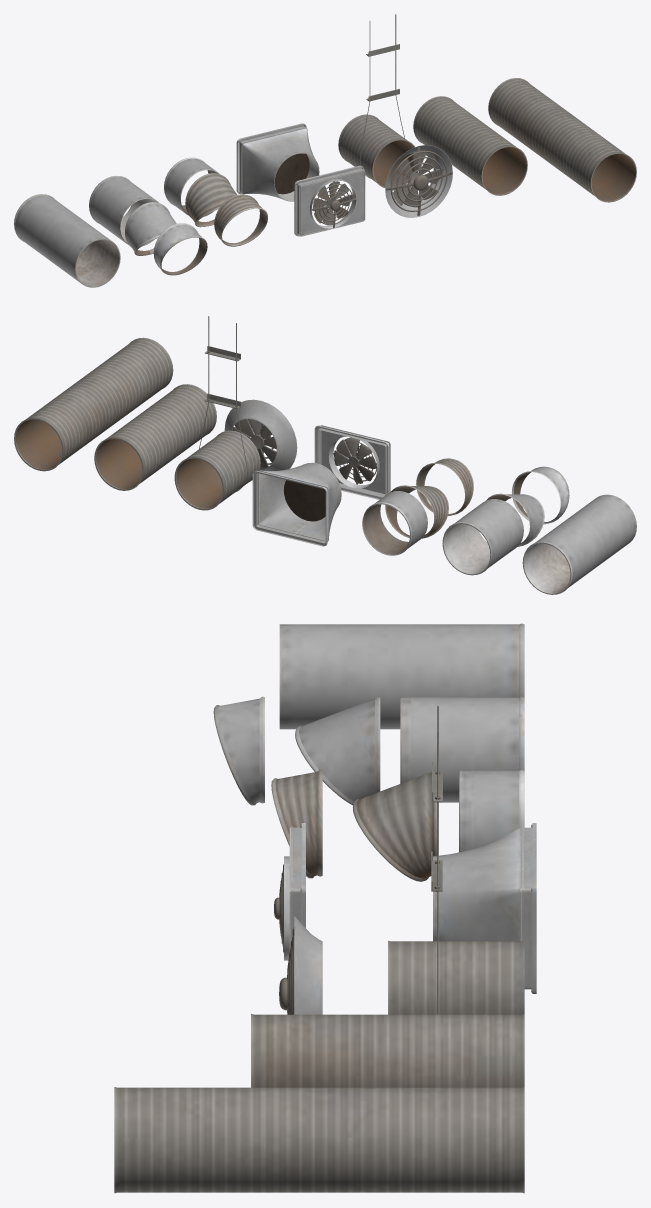
3 renders of one model, top to bottom at view 1: azimuth 30°, elevation 25°; view 2: azimuth 150°, elevation 25°; view 3: azimuth 270°, elevation 25°, orthographic. The views are drawn at different scales.
Parts seen in each view (by area): view 1: modular_airduct_circular_triple, modular_airduct_circular_double, modular_airduct_circular_smooth_triple, modular_airduct_rectangular_converter, modular_airduct_rectangular_vent_fan, modular_airduct_circular_fan, modular_airduct_circular_single, modular_airduct_circular_smooth_double, modular_airduct_circular_bend_half, modular_airduct_circular_smooth_bend_half, modular_airduct_circular_bend_quater, modular_airduct_circular_smooth_bend_quater (+1 smaller); view 2: modular_airduct_circular_triple, modular_airduct_circular_double, modular_airduct_circular_smooth_triple, modular_airduct_rectangular_converter, modular_airduct_circular_single, modular_airduct_circular_smooth_double, modular_airduct_rectangular_vent_fan, modular_airduct_circular_fan, modular_airduct_circular_smooth_single, modular_airduct_circular_bend_half, modular_airduct_circular_bend_quater, modular_airduct_circular_smooth_bend_quater (+2 smaller); view 3: modular_airduct_circular_triple, modular_airduct_circular_smooth_triple, modular_airduct_circular_double, modular_airduct_rectangular_converter, modular_airduct_circular_single, modular_airduct_circular_smooth_double, modular_airduct_circular_smooth_bend_half, modular_airduct_circular_bend_half, modular_airduct_circular_smooth_single, modular_airduct_circular_smooth_bend_quater, modular_airduct_circular_bend_quater, modular_airduct_circular_fan (+1 smaller).
Boxes of the visible parts, x1,y1,x2,y2 form: modular_airduct_circular_triple: [488, 78, 636, 202]; modular_airduct_circular_double: [413, 96, 527, 195]; modular_airduct_circular_smooth_triple: [14, 194, 120, 287]; modular_airduct_rectangular_converter: [236, 123, 319, 201]; modular_airduct_rectangular_vent_fan: [294, 165, 365, 236]; modular_airduct_circular_fan: [385, 145, 452, 217]; modular_airduct_circular_single: [338, 114, 414, 187]; modular_airduct_circular_smooth_double: [89, 175, 158, 246]; modular_airduct_circular_bend_half: [185, 173, 236, 227]; modular_airduct_circular_smooth_bend_half: [125, 202, 176, 255]; modular_airduct_circular_bend_quater: [214, 194, 267, 246]; modular_airduct_circular_smooth_bend_quater: [153, 223, 207, 275]; modular_airduct_circular_triple: [14, 337, 173, 471]; modular_airduct_circular_double: [94, 384, 216, 490]; modular_airduct_circular_smooth_triple: [522, 494, 636, 594]; modular_airduct_rectangular_converter: [252, 462, 341, 546]; modular_airduct_circular_single: [174, 430, 260, 510]; modular_airduct_circular_smooth_double: [442, 499, 523, 575]; modular_airduct_rectangular_vent_fan: [314, 425, 390, 499]; modular_airduct_circular_fan: [224, 399, 297, 470]; modular_airduct_circular_smooth_single: [362, 491, 427, 555]; modular_airduct_circular_bend_half: [385, 485, 448, 538]; modular_airduct_circular_bend_quater: [416, 458, 473, 515]; modular_airduct_circular_smooth_bend_quater: [511, 466, 569, 524]; modular_airduct_circular_triple: [114, 1087, 524, 1193]; modular_airduct_circular_smooth_triple: [279, 623, 524, 729]; modular_airduct_circular_double: [251, 1013, 524, 1087]; modular_airduct_rectangular_converter: [433, 823, 536, 993]; modular_airduct_circular_single: [388, 940, 524, 1014]; modular_airduct_circular_smooth_double: [400, 696, 524, 802]; modular_airduct_circular_smooth_bend_half: [295, 696, 380, 805]; modular_airduct_circular_bend_half: [353, 769, 437, 881]; modular_airduct_circular_smooth_single: [459, 770, 524, 852]; modular_airduct_circular_smooth_bend_quater: [213, 696, 264, 805]; modular_airduct_circular_bend_quater: [271, 770, 322, 878]; modular_airduct_circular_fan: [279, 916, 322, 1014].
Bounding box in the file's own units: 4.17 × 1.32 × 1.46.
Materials: 2 (2 with a texture image).
